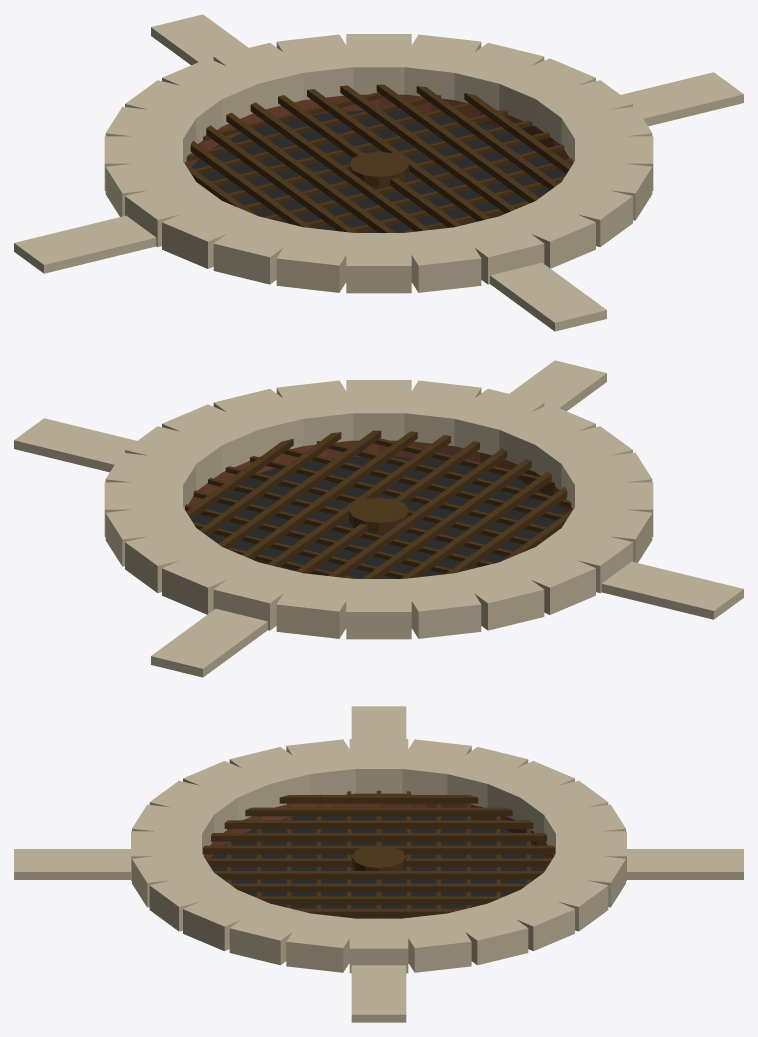
File: wind_vent.fbx
The picture shows the model from 3 angles, top to bottom: view 1: azimuth 30°, elevation 25°; view 2: azimuth 150°, elevation 25°; view 3: azimuth 270°, elevation 25°; orthographic projection. The views are drawn at different scales.
Parts seen in each view (by area): view 1: Vent; view 2: Vent; view 3: Vent.
Boxes of the visible parts, bbox=[...] form: Vent: bbox=[14, 14, 743, 331]; Vent: bbox=[14, 360, 743, 677]; Vent: bbox=[14, 706, 743, 1022].
Bounding box in the file's own units: 1340 × 90 × 1340.
